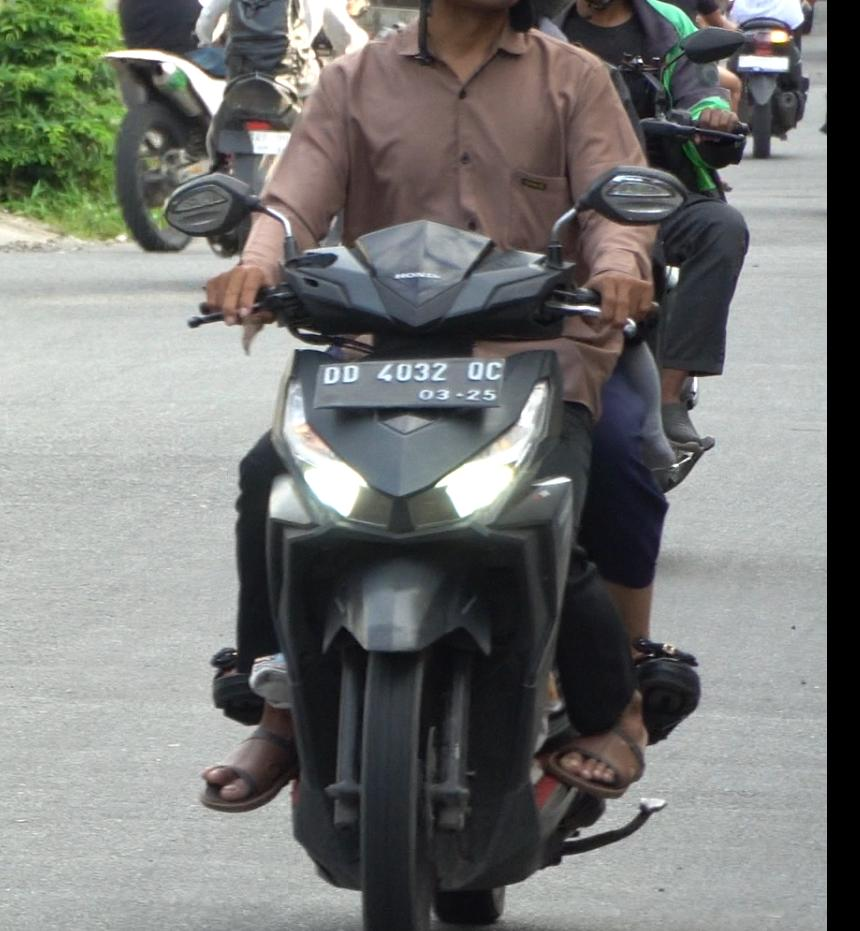number-plate: (311, 354, 510, 408)
